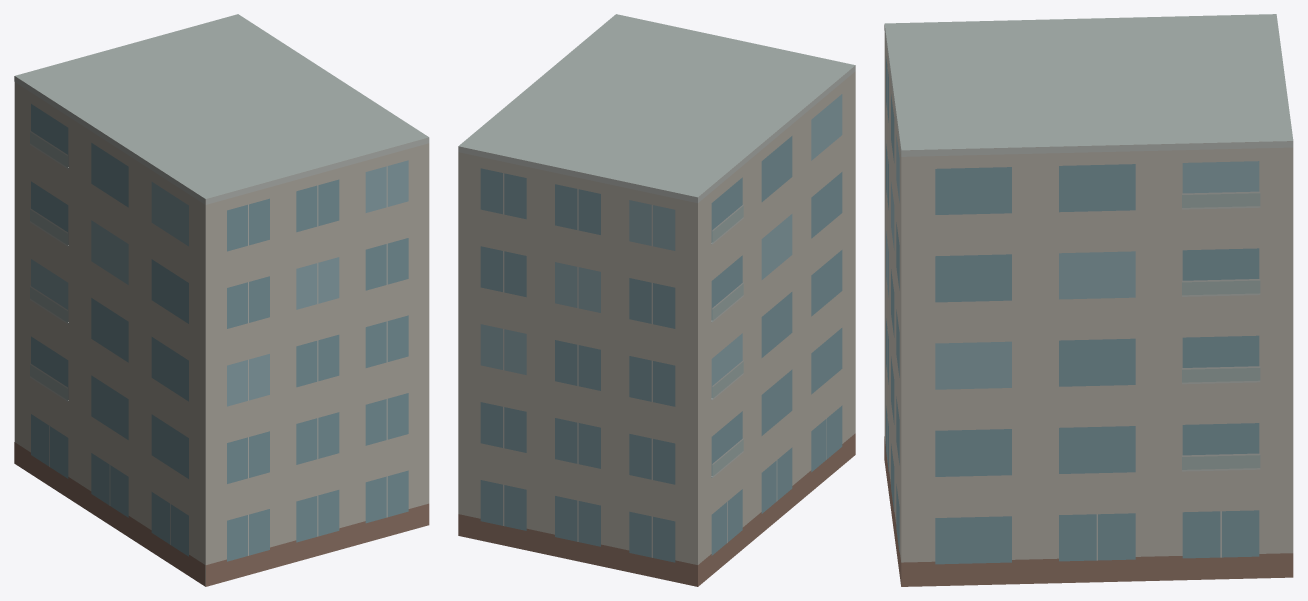
The model's file is survey-upis-32940962.glb.
The picture shows the model from 3 angles, left to right: view 1: azimuth 30°, elevation 25°; view 2: azimuth 150°, elevation 25°; view 3: azimuth 270°, elevation 25°; orthographic projection. The views are drawn at different scales.
Parts seen in each view (by area): view 1: survey-upis-32940962.tmp; view 2: survey-upis-32940962.tmp; view 3: survey-upis-32940962.tmp.
Boxes of the visible parts, left/top/right/bottom form: survey-upis-32940962.tmp: left=14, top=14, right=429, bottom=586; survey-upis-32940962.tmp: left=458, top=14, right=855, bottom=586; survey-upis-32940962.tmp: left=884, top=14, right=1293, bottom=586.
Bounding box in the file's own units: 10.79 × 16.1 × 13.68.
